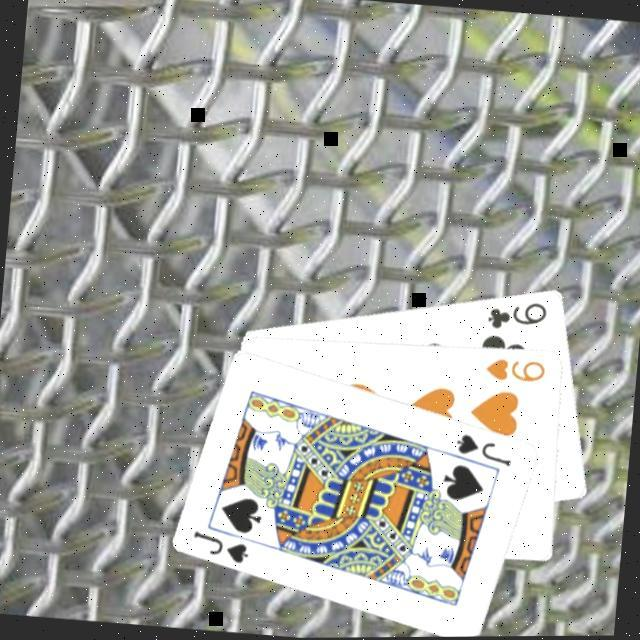9C: (481, 296, 549, 338)
9H: (479, 354, 547, 389)
JS: (449, 431, 515, 471), (186, 528, 251, 568)
